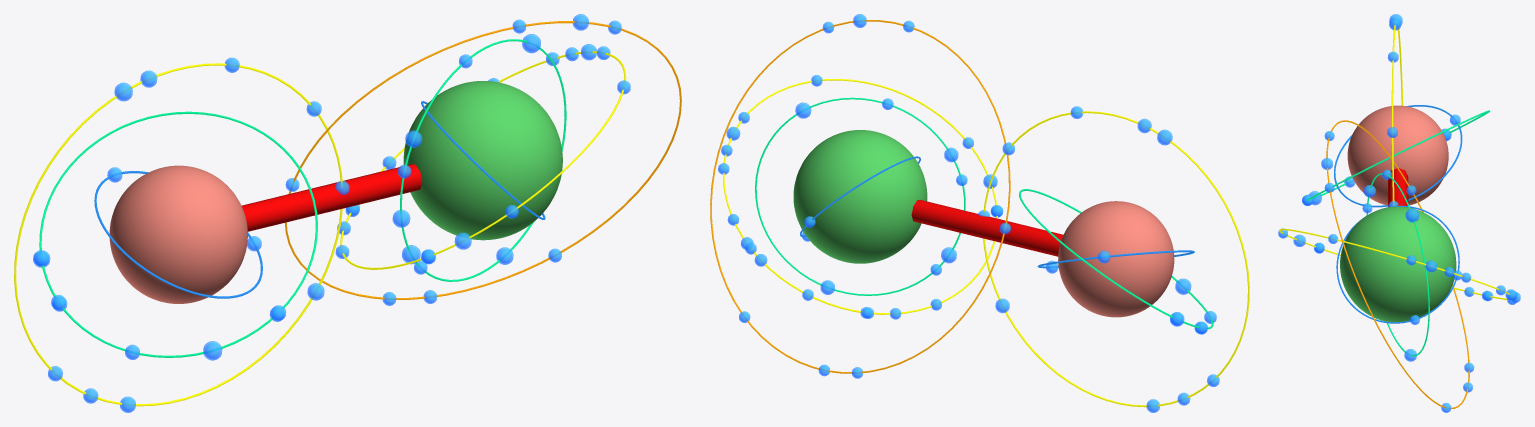
File: KBr.glb
3 renders of one model, left to right at view 1: azimuth 30°, elevation 25°; view 2: azimuth 150°, elevation 25°; view 3: azimuth 270°, elevation 25°, orthographic. The views are drawn at different scales.
Visible parts, largest first — view 1: Br, K, object 118, object 24, object 103, object 7, object 66, object 49, object 2; view 2: Br, K, object 118, object 103, object 24, object 66, object 49, object 7; view 3: Br, K, object 103, object 44, object 118, object 66, object 7, object 2, object 24, object 49.
Part boxes in pixels (x1=…): Br: x1=403, y1=81, x2=562, y2=240; K: x1=109, y1=165, x2=247, y2=303; object 118: x1=241, y1=164, x2=422, y2=231; object 24: x1=14, y1=63, x2=342, y2=406; object 103: x1=285, y1=21, x2=681, y2=299; object 7: x1=39, y1=111, x2=317, y2=357; object 66: x1=340, y1=51, x2=626, y2=269; object 49: x1=400, y1=39, x2=566, y2=281; object 2: x1=94, y1=171, x2=262, y2=298; Br: x1=793, y1=130, x2=927, y2=263; K: x1=1058, y1=201, x2=1174, y2=317; object 118: x1=911, y1=200, x2=1063, y2=256; object 103: x1=710, y1=20, x2=1010, y2=373; object 24: x1=983, y1=111, x2=1249, y2=407; object 66: x1=723, y1=78, x2=997, y2=314; object 49: x1=755, y1=97, x2=965, y2=295; object 7: x1=1019, y1=189, x2=1213, y2=329; Br: x1=1340, y1=206, x2=1456, y2=322; K: x1=1347, y1=105, x2=1448, y2=205; object 103: x1=1326, y1=120, x2=1469, y2=408; object 44: x1=1336, y1=205, x2=1459, y2=323; object 118: x1=1388, y1=168, x2=1408, y2=206; object 66: x1=1279, y1=228, x2=1510, y2=300; object 7: x1=1307, y1=110, x2=1490, y2=200; object 2: x1=1334, y1=105, x2=1462, y2=207; object 24: x1=1391, y1=24, x2=1403, y2=202; object 49: x1=1366, y1=173, x2=1429, y2=356.
Bounding box in the file's own units: 10.65 × 5.55 × 4.72.
